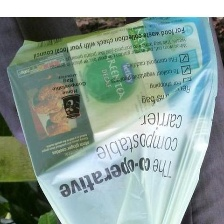plastic_bag: (4, 14, 221, 224)
